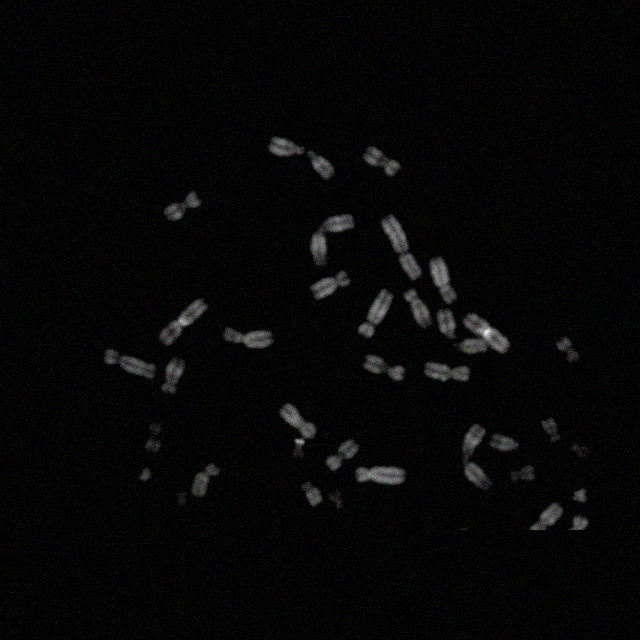chromosome: (382, 214, 421, 280), (312, 214, 354, 266), (161, 298, 207, 344), (460, 422, 490, 490), (463, 312, 509, 353), (357, 288, 393, 336), (104, 348, 156, 379), (430, 258, 460, 304), (280, 404, 316, 438), (310, 270, 350, 300), (362, 147, 400, 177), (404, 288, 432, 328), (223, 327, 273, 348), (165, 190, 199, 220), (363, 354, 402, 380), (356, 466, 406, 486), (328, 439, 358, 471), (160, 356, 184, 394), (192, 464, 220, 496), (528, 503, 562, 529), (425, 362, 469, 382), (308, 150, 334, 178), (300, 478, 322, 506), (270, 137, 304, 155), (490, 433, 520, 453), (438, 308, 457, 339), (557, 336, 579, 362), (543, 416, 561, 446), (509, 464, 536, 484), (143, 422, 161, 451), (458, 339, 488, 355), (292, 440, 306, 460), (572, 488, 588, 504), (138, 466, 152, 484), (330, 492, 344, 510), (572, 442, 588, 456)
